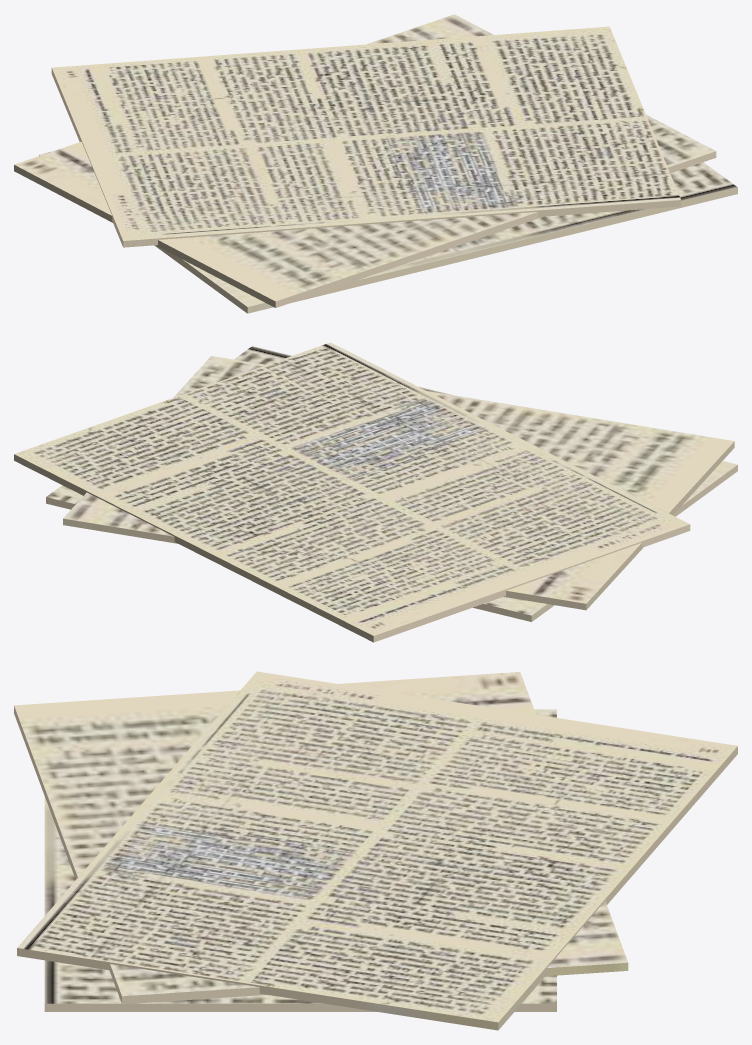
The model's file is Documents.fbx.
3 views of the same model, one above another, from view 1: azimuth 30°, elevation 25°; view 2: azimuth 150°, elevation 25°; view 3: azimuth 270°, elevation 25° (orthographic). The views are drawn at different scales.
Visible parts, largest first — view 1: Documents; view 2: Documents; view 3: Documents.
Boxes of the visible parts, x1=… form: Documents: x1=14, y1=14, x2=737, y2=313; Documents: x1=14, y1=342, x2=737, y2=642; Documents: x1=14, y1=671, x2=737, y2=1030.
Size of the model in its own units: 116 by 3.55 by 101.
